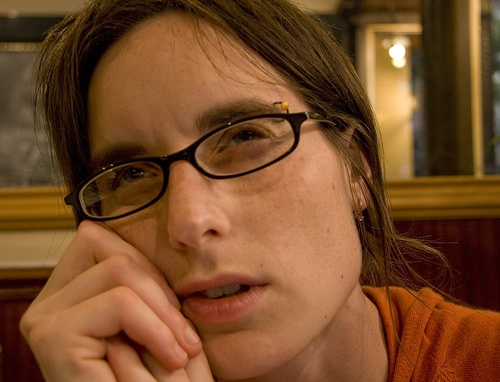head: (43, 1, 365, 381)
person: (8, 1, 494, 382)
